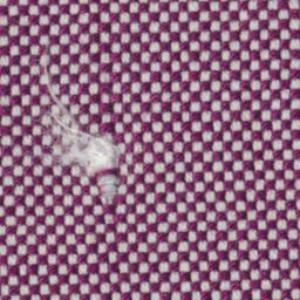fault: (26, 42, 126, 203)
